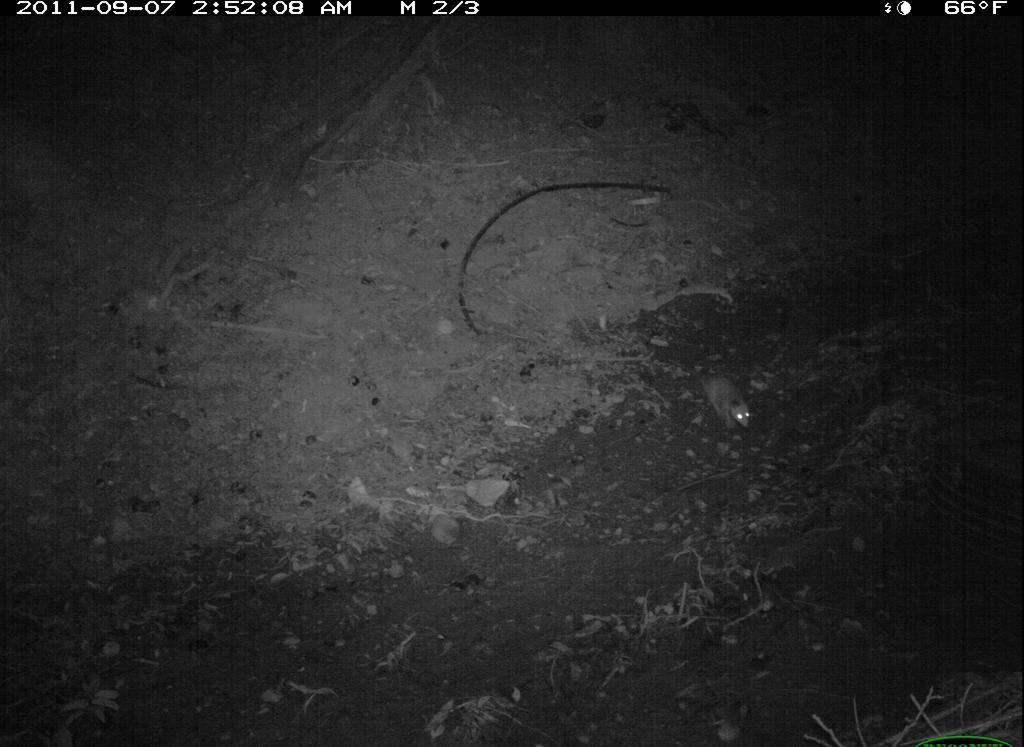opossum: (680, 361, 766, 445)
